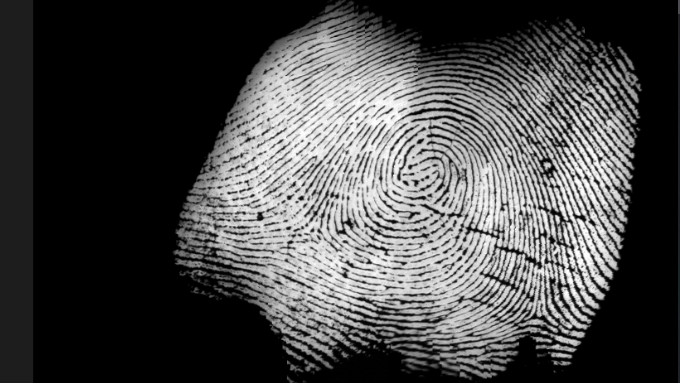nucelo: (428, 162, 444, 182)
verticilo: (525, 303, 549, 325), (297, 221, 325, 239)
